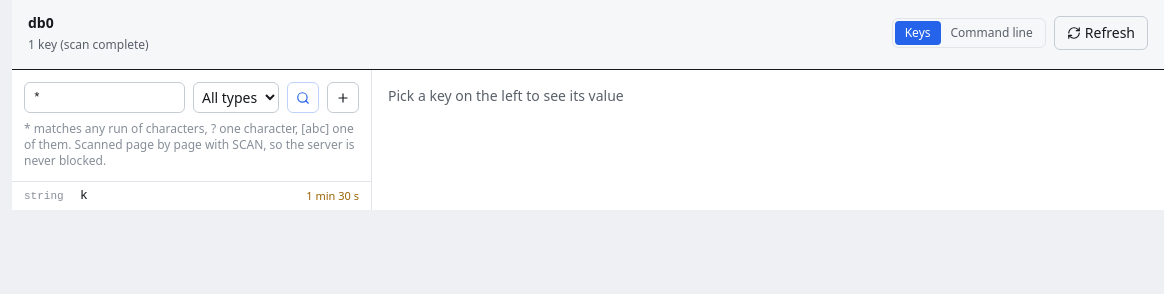
it: RedisKeyBrowser › 从头重扫完了还不见选中的键：它已经没了，右边不再印着它和它过期前的剩余时间
This screenshot has width=1164, height=294.
Click the button "string k 1 min 30 s" at (44, 196), box x1=12 y1=182 x2=371 y2=210
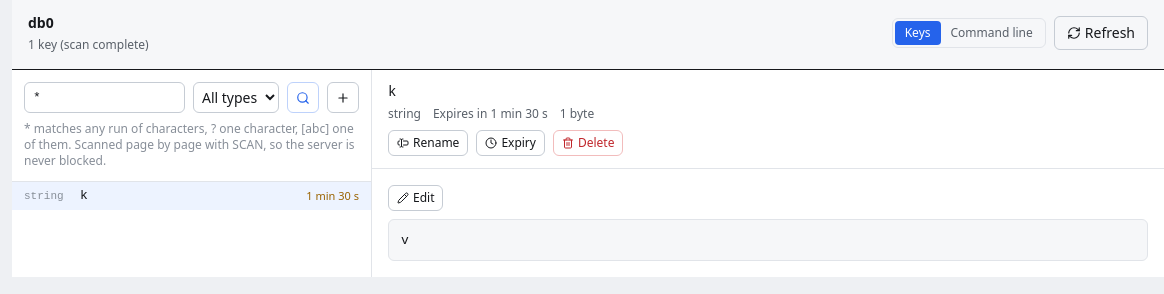
Click the button "Refresh" at (1101, 33), box x1=1054 y1=16 x2=1148 y2=50
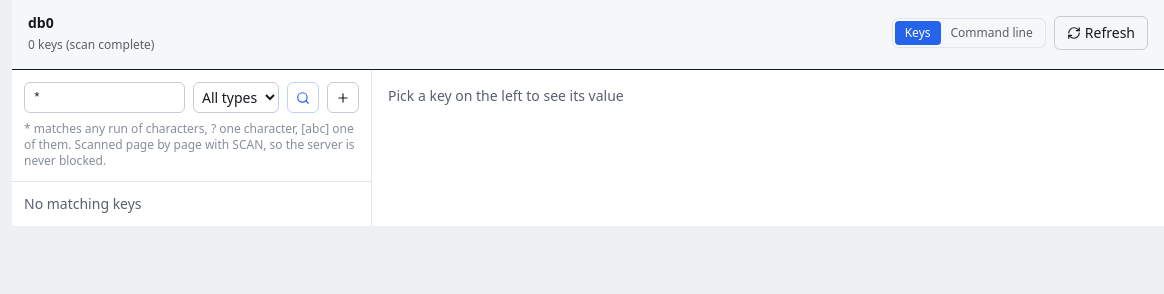
Expected: the text "Pick a key on the left" is shown, x1=388 y1=86 x2=624 y2=105
Expected: the text "Expires in" is gone
